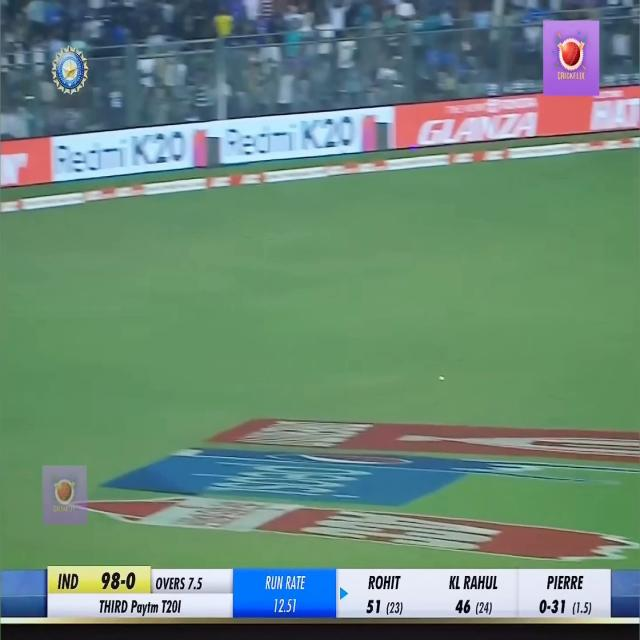fully_visible: (128, 597, 159, 619)
